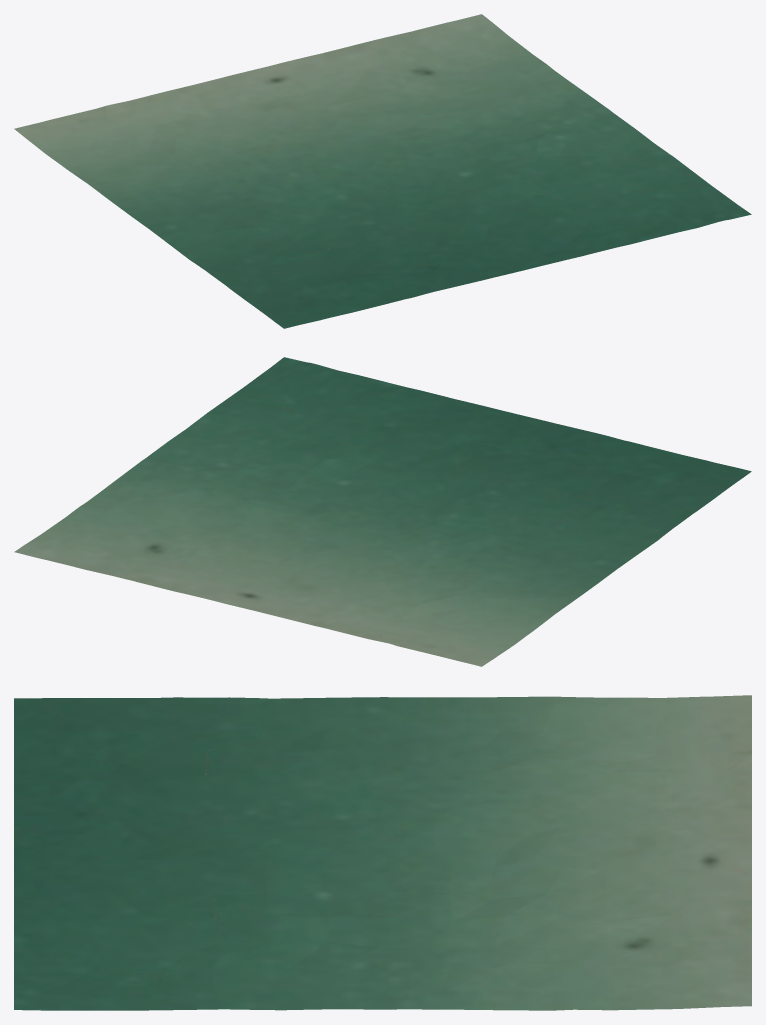
3 views of the same model, one above another, from view 1: azimuth 30°, elevation 25°; view 2: azimuth 150°, elevation 25°; view 3: azimuth 270°, elevation 25° (orthographic). The views are drawn at different scales.
Size of the model in its own units: 52.22 by 0.4719 by 52.22.
Materials: 2 (2 with a texture image).
